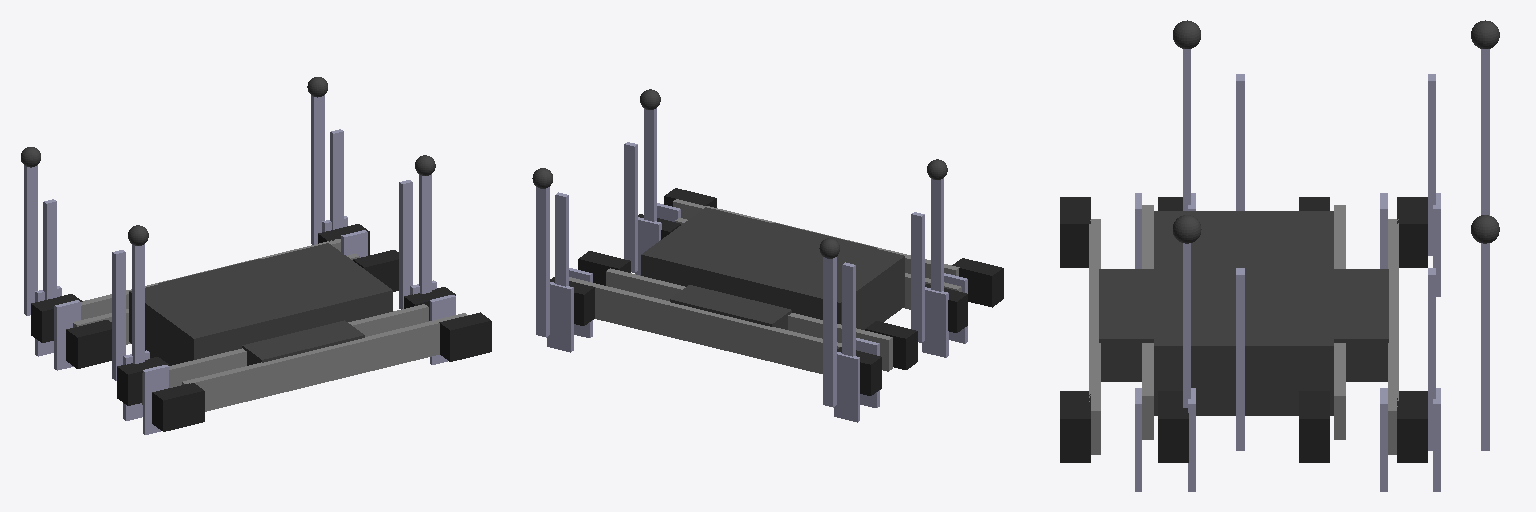
--- Render facts (derived) ---
Views: 3 orthographic renders of the robot side by side, from view 1: azimuth 30°, elevation 25°; view 2: azimuth 150°, elevation 25°; view 3: azimuth 270°, elevation 25°.
Robot: minitaur — 17 links, 16 joints (16 continuous); root link base_chassis_link; default pose: all joints at 0.
Visible links, largest first — view 1: base_chassis_link, lower_leg_back_leftL_link, lower_leg_front_leftL_link, lower_leg_back_rightR_link, lower_leg_front_rightR_link, lower_leg_back_rightL_link, lower_leg_front_rightL_link, lower_leg_back_leftR_link, lower_leg_front_leftR_link, motor_back_leftR_link, motor_back_rightR_link, motor_front_rightR_link (+1 smaller); view 2: base_chassis_link, lower_leg_front_leftL_link, lower_leg_back_leftL_link, lower_leg_front_rightR_link, lower_leg_back_rightR_link, lower_leg_front_rightL_link, lower_leg_back_rightL_link, motor_front_leftL_link, motor_back_rightL_link, motor_back_leftL_link, lower_leg_front_leftR_link, lower_leg_back_leftR_link (+2 smaller); view 3: base_chassis_link, lower_leg_front_leftL_link, lower_leg_back_leftL_link, lower_leg_front_rightR_link, lower_leg_back_rightR_link, lower_leg_front_rightL_link, lower_leg_front_leftR_link, lower_leg_back_leftR_link, lower_leg_back_rightL_link, motor_front_leftR_link, motor_front_leftL_link, motor_front_rightL_link (+4 smaller).
Boxes of the visible links, left/top/right/bottom form: base_chassis_link: left=31, top=224, right=491, bottom=431; lower_leg_back_leftL_link: left=21, top=147, right=40, bottom=315; lower_leg_front_leftL_link: left=307, top=77, right=327, bottom=244; lower_leg_back_rightR_link: left=128, top=225, right=148, bottom=363; lower_leg_front_rightR_link: left=415, top=155, right=435, bottom=293; lower_leg_back_rightL_link: left=112, top=250, right=125, bottom=380; lower_leg_front_rightL_link: left=399, top=180, right=412, bottom=309; lower_leg_back_leftR_link: left=43, top=199, right=56, bottom=299; lower_leg_front_leftR_link: left=330, top=129, right=343, bottom=229; motor_back_leftR_link: left=54, top=300, right=80, bottom=370; motor_back_rightR_link: left=143, top=365, right=168, bottom=434; motor_front_rightR_link: left=430, top=295, right=455, bottom=364; base_chassis_link: left=550, top=188, right=1003, bottom=395; lower_leg_front_leftL_link: left=532, top=168, right=552, bottom=337; lower_leg_back_leftL_link: left=819, top=238, right=839, bottom=407; lower_leg_front_rightR_link: left=640, top=89, right=660, bottom=221; lower_leg_back_rightR_link: left=927, top=159, right=947, bottom=291; lower_leg_front_rightL_link: left=624, top=142, right=637, bottom=272; lower_leg_back_rightL_link: left=911, top=212, right=924, bottom=342; motor_front_leftL_link: left=547, top=282, right=573, bottom=352; motor_back_rightL_link: left=922, top=287, right=948, bottom=357; motor_back_leftL_link: left=834, top=352, right=859, bottom=422; lower_leg_front_leftR_link: left=555, top=192, right=568, bottom=286; lower_leg_back_leftR_link: left=842, top=262, right=855, bottom=356; base_chassis_link: left=1060, top=197, right=1427, bottom=462; lower_leg_front_leftL_link: left=1471, top=215, right=1499, bottom=450; lower_leg_back_leftL_link: left=1471, top=20, right=1499, bottom=215; lower_leg_front_rightR_link: left=1173, top=215, right=1201, bottom=407; lower_leg_back_rightR_link: left=1173, top=20, right=1200, bottom=210; lower_leg_front_rightL_link: left=1236, top=268, right=1244, bottom=450; lower_leg_front_leftR_link: left=1428, top=268, right=1435, bottom=450; lower_leg_back_leftR_link: left=1428, top=74, right=1435, bottom=255; lower_leg_back_rightL_link: left=1236, top=74, right=1244, bottom=210; motor_front_leftR_link: left=1380, top=388, right=1387, bottom=491; motor_front_leftL_link: left=1433, top=388, right=1440, bottom=491; motor_front_rightL_link: left=1188, top=388, right=1195, bottom=491.
Size in the robot's own frame: 0.543 by 0.454 by 0.3045 metres.
0 mesh visuals loaded from 1 distinct referenced files (none loaded); not drawn: 8 (reference not matched to a file when rendering).

robot.urdf — minitaur:
<?xml version="1.0" ?>
<!-- =================================================================================== -->
<!-- |    This document was autogenerated by xacro from ../../SDK/urdf/minitaur_original.urdf.xacro | -->
<!-- |    EDITING THIS FILE BY HAND IS NOT RECOMMENDED                                 | -->
<!-- =================================================================================== -->
<!-- ======================================================================= -->
<!--LICENSE:                                                                 -->
<!--Copyright (c) 2017, Erwin Coumans                                        -->
<!--Google Inc.                                                              -->
<!--All rights reserved.                                                     -->
<!--                                                                         -->
<!--Redistribution and use in source and binary forms, with or without       -->
<!--modification, are permitted provided that the following conditions are   -->
<!--met:                                                                     -->
<!--                                                                         -->
<!--1. Redistributions or derived work must retain this copyright notice,    -->
<!--   this list of conditions and the following disclaimer.                 -->
<!--                                                                         -->
<!--2. Redistributions in binary form must reproduce the above copyright     -->
<!--   notice, this list of conditions and the following disclaimer in the   -->
<!--   documentation and/or other materials provided with the distribution.  -->
<!--                                                                         -->
<!--THIS SOFTWARE IS PROVIDED BY THE COPYRIGHT HOLDERS AND CONTRIBUTORS "AS  -->
<!--IS" AND ANY EXPRESS OR IMPLIED WARRANTIES, INCLUDING, BUT NOT LIMITED TO,-->
<!--THE IMPLIED WARRANTIES OF MERCHANTABILITY AND FITNESS FOR A PARTICULAR   -->
<!--PURPOSE ARE DISCLAIMED. IN NO EVENT SHALL THE COPYRIGHT HOLDER OR        -->
<!--CONTRIBUTORS BE LIABLE FOR ANY DIRECT, INDIRECT, INCIDENTAL, SPECIAL,    -->
<!--EXEMPLARY, OR CONSEQUENTIAL DAMAGES (INCLUDING, BUT NOT LIMITED TO,      -->
<!--PROCUREMENT OF SUBSTITUTE GOODS OR SERVICES; LOSS OF USE, DATA, OR       -->
<!--PROFITS; OR BUSINESS INTERRUPTION) HOWEVER CAUSED AND ON ANY THEORY OF   -->
<!--LIABILITY, WHETHER IN CONTRACT, STRICT LIABILITY, OR TORT (INCLUDING     -->
<!--NEGLIGENCE OR OTHERWISE) ARISING IN ANY WAY OUT OF THE USE OF THIS       -->
<!--SOFTWARE, EVEN IF ADVISED OF THE POSSIBILITY OF SUCH DAMAGE.             -->
<!--                                                                         -->
<!-- Converted to xacro by Tom Jacobs <[email redacted]>          -->
<robot name="minitaur" xmlns:xacro="http://www.ros.org/wiki/xacro">
    <!-- Define parameters -->
    <!-- 7.18kg minitaur total weight - 0.016*4 - 0.10*8 - 0.25*8 - 0.05*8 - 0.05*8 = 3.516 -->
    <!-- * 4 frames -->
    <!-- * 8 motor modules -->
    <!-- * 8 motors -->
    <!-- * 8 upper legs -->
    <!-- * 8 lower legs -->
    <!-- Define materials -->
    <material name="black">
        <color rgba="0.3 0.3 0.3 1"/>
    </material>
    <material name="grey">
        <color rgba="0.5 0.5 0.5 1"/>
    </material>
    <material name="frameGrey">
        <color rgba="0.55 0.55 0.55 1"/>
    </material>
    <material name="legGrey">
        <color rgba="0.65 0.65 0.75 1"/>
    </material>
    <material name="motor">
        <color rgba="0.2 0.2 0.2 1"/>
    </material>
    <!-- Body -->
    <link name="base_chassis_link">
        <visual>
            <geometry>
                <box size="0.33 0.1855 0.08"/>
            </geometry>
            <material name="black"/>
        </visual>
        <visual>
            <origin rpy="0 0 0" xyz="0 0.10 -0.014"/>
            <geometry>
                <box size="0.17 0.1 0.05"/>
            </geometry>
            <material name="black"/>
        </visual>
        <visual>
            <origin rpy="0 0 0" xyz="0 -0.10 -0.014"/>
            <geometry>
                <box size="0.17 0.1 0.05"/>
            </geometry>
            <material name="black"/>
        </visual>
        <collision>
            <geometry>
                <box size="0.33 0.1855 0.08"/>
            </geometry>
        </collision>
        <collision>
            <origin rpy="0 0 0" xyz="0 0.10 -0.014"/>
            <geometry>
                <box size="0.17 0.1 0.05"/>
            </geometry>
        </collision>
        <collision>
            <origin rpy="0 0 0" xyz="0 -0.10 -0.014"/>
            <geometry>
                <box size="0.17 0.1 0.05"/>
            </geometry>
        </collision>
        <inertial>
            <origin xyz="-0.000001 -0.001048 -0.005376" quat="0.000000 0.000000 0.000000 1.000000"/>
            <mass value="4.9559989"/>
            <!-- https://en.wikipedia.org/wiki/List_of_moments_of_inertia Solid Cuboid -->
            <inertia ixx="0.061256915" ixy="-1.6763806e-08" ixz="-5.1921234e-08" iyy="0.17553288" iyz="-6.8246009e-05" izz="0.22581783"/>
        </inertial>
        <collision>
            <origin xyz="-0.237500 0.174000 -0.018500" quat="0.000000 0.000000 0.000000 1.000000"/>
            <geometry>
                <box size=".068 .032 .050"/>
            </geometry>
        </collision>
        <visual>
            <origin xyz="-0.237500 0.174000 -0.018500" quat="0.000000 0.000000 0.000000 1.000000"/>
            <geometry>
                <box size="0.068 .032 .050"/>
            </geometry>
            <material name="motor"/>
        </visual>
        <collision>
            <origin xyz="-0.237500 -0.174000 -0.018500" quat="0.000000 0.000000 0.000000 1.000000"/>
            <geometry>
                <box size=".068 .032 .050"/>
            </geometry>
        </collision>
        <visual>
            <origin xyz="-0.237500 -0.174000 -0.018500" quat="0.000000 0.000000 0.000000 1.000000"/>
            <geometry>
                <box size="0.068 .032 .050"/>
            </geometry>
            <material name="motor"/>
        </visual>
        <collision>
            <origin xyz="0.237500 0.174000 -0.018500" quat="0.000000 0.000000 0.000000 1.000000"/>
            <geometry>
                <box size=".068 .032 .050"/>
            </geometry>
        </collision>
        <visual>
            <origin xyz="0.237500 0.174000 -0.018500" quat="0.000000 0.000000 0.000000 1.000000"/>
            <geometry>
                <box size="0.068 .032 .050"/>
            </geometry>
            <material name="motor"/>
        </visual>
        <collision>
            <origin xyz="0.237500 -0.174000 -0.018500" quat="0.000000 0.000000 0.000000 1.000000"/>
            <geometry>
                <box size=".068 .032 .050"/>
            </geometry>
        </collision>
        <visual>
            <origin xyz="0.237500 -0.174000 -0.018500" quat="0.000000 0.000000 0.000000 1.000000"/>
            <geometry>
                <box size="0.068 .032 .050"/>
            </geometry>
            <material name="motor"/>
        </visual>
        <collision>
            <origin xyz="0.237500 0.072500 -0.018500" quat="0.000000 0.000000 0.000000 1.000000"/>
            <geometry>
                <box size=".068 .032 .050"/>
            </geometry>
        </collision>
        <collision>
            <origin xyz="-0.237500 0.072500 -0.018500" quat="0.000000 0.000000 0.000000 1.000000"/>
            <geometry>
                <box size=".068 .032 .050"/>
            </geometry>
        </collision>
        <visual>
            <origin xyz="0.237500 0.072500 -0.018500" quat="0.000000 0.000000 0.000000 1.000000"/>
            <geometry>
                <box size=".068 .032 .050"/>
            </geometry>
            <material name="motor"/>
        </visual>
        <visual>
            <origin xyz="-0.237500 0.072500 -0.018500" quat="0.000000 0.000000 0.000000 1.000000"/>
            <geometry>
                <box size=".068 .032 .050"/>
            </geometry>
            <material name="motor"/>
        </visual>
        <collision>
            <origin xyz="0.237500 -0.072500 -0.018500" quat="0.000000 0.000000 0.000000 1.000000"/>
            <geometry>
                <box size=".068 .032 .050"/>
            </geometry>
        </collision>
        <collision>
            <origin xyz="-0.237500 -0.072500 -0.018500" quat="0.000000 0.000000 0.000000 1.000000"/>
            <geometry>
                <box size=".068 .032 .050"/>
            </geometry>
        </collision>
        <visual>
            <origin xyz="0.237500 -0.072500 -0.018500" quat="0.000000 0.000000 0.000000 1.000000"/>
            <geometry>
                <box size=".068 .032 .050"/>
            </geometry>
            <material name="motor"/>
        </visual>
        <visual>
            <origin xyz="-0.237500 -0.072500 -0.018500" quat="0.000000 0.000000 0.000000 1.000000"/>
            <geometry>
                <box size=".068 .032 .050"/>
            </geometry>
            <material name="motor"/>
        </visual>
        <collision>
            <origin xyz="-0.017500 0.099000 -0.018500" quat="0.000000 0.000000 0.000000 1.000000"/>
            <geometry>
                <box size="0.468 .012 .050"/>
            </geometry>
        </collision>
        <visual>
            <origin xyz="-0.017500 0.099000 -0.018500" quat="0.000000 0.000000 0.000000 1.000000"/>
            <geometry>
                <box size="0.468 .012 .050"/>
            </geometry>
            <material name="frameGrey"/>
        </visual>
        <collision>
            <origin xyz="-0.017500 -0.099000 -0.018500" quat="0.000000 0.000000 0.000000 1.000000"/>
            <geometry>
                <box size="0.468 .012 .050"/>
            </geometry>
        </collision>
        <visual>
            <origin xyz="-0.017500 -0.099000 -0.018500" quat="0.000000 0.000000 0.000000 1.000000"/>
            <geometry>
                <box size="0.468 .012 .050"/>
            </geometry>
            <material name="frameGrey"/>
        </visual>
        <collision>
            <origin xyz="0.017500 0.154000 -0.018500" quat="0.000000 0.000000 0.000000 1.000000"/>
            <geometry>
                <box size="0.468 .012 .050"/>
            </geometry>
        </collision>
        <visual>
            <origin xyz="0.017500 0.154000 -0.018500" quat="0.000000 0.000000 0.000000 1.000000"/>
            <geometry>
                <box size="0.468 .012 .050"/>
            </geometry>
            <material name="frameGrey"/>
        </visual>
        <collision>
            <origin xyz="0.017500 -0.154000 -0.018500" quat="0.000000 0.000000 0.000000 1.000000"/>
            <geometry>
                <box size="0.468 .012 .050"/>
            </geometry>
        </collision>
        <visual>
            <origin xyz="0.017500 -0.154000 -0.018500" quat="0.000000 0.000000 0.000000 1.000000"/>
            <geometry>
                <box size="0.468 .012 .050"/>
            </geometry>
            <material name="frameGrey"/>
        </visual>
    </link>
    <!-- Frame -->
    <!-- Inside motor module boxes -->
    <!-- Outside motor module boxes -->
    <!-- Define our motor macro -->
    <!-- Motors -->
    <link name="motor_front_rightR_link">
        <visual>
            <geometry>
                <mesh filename="tmotor3.obj" scale="1.0 1.0 1.0"/>
            </geometry>
            <material name="motor"/>
        </visual>
        <collision>
            <geometry>
                <cylinder length="0.021" radius="0.0425"/>
            </geometry>
        </collision>
        <inertial>
            <origin xyz="0.000000 0.007500 -0.002417" quat="0.000000 0.000000 0.000000 1.000000"/>
            <mass value="0.30000001"/>
            <inertia ixx="0.00024587542" ixy="0" ixz="0" iyy="0.00012633341" iyz="2.7185712e-05" izz="0.00034422299"/>
        </inertial>
        <collision>
            <origin xyz="0.000000 0.045000 -0.014500" quat="-0.707090 0.000000 0.000000 0.707123"/>
            <geometry>
                <box size="0.039 0.008 0.1"/>
            </geometry>
        </collision>
        <visual>
            <origin xyz="0.000000 0.045000 -0.014500" quat="-0.707090 0.000000 0.000000 0.707123"/>
            <geometry>
                <box size="0.039 0.008 0.1"/>
            </geometry>
            <material name="legGrey"/>
        </visual>
    </link>
    <joint name="5" type="continuous">
        <axis xyz="0 0 1"/>
        <parent link="base_chassis_link"/>
        <child link="motor_front_rightR_link"/>
        <origin xyz="0.237500 -0.154000 -0.018500" quat="0.707090 0.000000 0.000000 0.707123"/>
        <limit effort="100" velocity="100"/>
        <joint_properties damping="0.0" friction="0.0"/>
    </joint>
    <link name="motor_front_rightL_link">
        <visual>
            <geometry>
                <mesh filename="tmotor3.obj" scale="1.0 1.0 1.0"/>
            </geometry>
            <material name="motor"/>
        </visual>
        <collision>
            <geometry>
                <cylinder length="0.021" radius="0.0425"/>
            </geometry>
        </collision>
        <inertial>
            <origin xyz="0.000000 0.007500 -0.002417" quat="0.000000 0.000000 0.000000 1.000000"/>
            <mass value="0.30000001"/>
            <inertia ixx="0.00024587542" ixy="0" ixz="0" iyy="0.00012633341" iyz="2.7185712e-05" izz="0.00034422299"/>
        </inertial>
        <collision>
            <origin xyz="0.000000 0.045000 -0.014500" quat="-0.707090 0.000000 0.000000 0.707123"/>
            <geometry>
                <box size="0.039 0.008 0.1"/>
            </geometry>
        </collision>
        <visual>
            <origin xyz="0.000000 0.045000 -0.014500" quat="-0.707090 0.000000 0.000000 0.707123"/>
            <geometry>
                <box size="0.039 0.008 0.1"/>
            </geometry>
            <material name="legGrey"/>
        </visual>
    </link>
    <joint name="4" type="continuous">
        <axis xyz="0 0 1"/>
        <parent link="base_chassis_link"/>
        <child link="motor_front_rightL_link"/>
        <origin xyz="0.237500 -0.099000 -0.018500" quat="0.000000 0.707090 0.707123 0.000000"/>
        <limit effort="100" velocity="100"/>
        <joint_properties damping="0.0" friction="0.0"/>
    </joint>
    <link name="motor_front_leftL_link">
        <visual>
            <geometry>
                <mesh filename="tmotor3.obj" scale="1.0 1.0 1.0"/>
            </geometry>
            <material name="motor"/>
        </visual>
        <collision>
            <geometry>
                <cylinder length="0.021" radius="0.0425"/>
            </geometry>
        </collision>
        <inertial>
            <origin xyz="0.000000 0.007500 -0.002417" quat="0.000000 0.000000 0.000000 1.000000"/>
            <mass value="0.30000001"/>
            <inertia ixx="0.00024587542" ixy="0" ixz="0" iyy="0.00012633341" iyz="2.7185712e-05" izz="0.00034422299"/>
        </inertial>
        <collision>
            <origin xyz="0.000000 0.045000 -0.014500" quat="-0.707090 0.000000 0.000000 0.707123"/>
            <geometry>
                <box size="0.039 0.008 0.1"/>
            </geometry>
        </collision>
        <visual>
            <origin xyz="0.000000 0.045000 -0.014500" quat="-0.707090 0.000000 0.000000 0.707123"/>
            <geometry>
                <box size="0.039 0.008 0.1"/>
            </geometry>
            <material name="legGrey"/>
        </visual>
    </link>
    <joint name="0" type="continuous">
        <axis xyz="0 0 1"/>
        <parent link="base_chassis_link"/>
        <child link="motor_front_leftL_link"/>
        <origin xyz="0.237500 0.154000 -0.018500" quat="0.000000 0.707090 0.707123 0.000000"/>
        <limit effort="100" velocity="100"/>
        <joint_properties damping="0.0" friction="0.0"/>
    </joint>
    <link name="motor_front_leftR_link">
        <visual>
            <geometry>
                <mesh filename="tmotor3.obj" scale="1.0 1.0 1.0"/>
            </geometry>
            <material name="motor"/>
        </visual>
        <collision>
            <geometry>
                <cylinder length="0.021" radius="0.0425"/>
            </geometry>
        </collision>
        <inertial>
            <origin xyz="0.000000 0.007500 -0.002417" quat="0.000000 0.000000 0.000000 1.000000"/>
            <mass value="0.30000001"/>
            <inertia ixx="0.00024587542" ixy="0" ixz="0" iyy="0.00012633341" iyz="2.7185712e-05" izz="0.00034422299"/>
        </inertial>
        <collision>
            <origin xyz="0.000000 0.045000 -0.014500" quat="-0.707090 0.000000 0.000000 0.707123"/>
            <geometry>
                <box size="0.039 0.008 0.1"/>
            </geometry>
        </collision>
        <visual>
            <origin xyz="0.000000 0.045000 -0.014500" quat="-0.707090 0.000000 0.000000 0.707123"/>
            <geometry>
                <box size="0.039 0.008 0.1"/>
            </geometry>
            <material name="legGrey"/>
        </visual>
    </link>
    <joint name="1" type="continuous">
        <axis xyz="0 0 1"/>
        <parent link="base_chassis_link"/>
        <child link="motor_front_leftR_link"/>
        <origin xyz="0.237500 0.099000 -0.018500" quat="0.707090 0.000000 0.000000 0.707123"/>
        <limit effort="100" velocity="100"/>
        <joint_properties damping="0.0" friction="0.0"/>
    </joint>
    <link name="motor_back_rightR_link">
        <visual>
            <geometry>
                <mesh filename="tmotor3.obj" scale="1.0 1.0 1.0"/>
            </geometry>
            <material name="motor"/>
        </visual>
        <collision>
            <geometry>
                <cylinder length="0.021" radius="0.0425"/>
            </geometry>
        </collision>
        <inertial>
            <origin xyz="0.000000 0.007500 -0.002417" quat="0.000000 0.000000 0.000000 1.000000"/>
            <mass value="0.30000001"/>
            <inertia ixx="0.00024587542" ixy="0" ixz="0" iyy="0.00012633341" iyz="2.7185712e-05" izz="0.00034422299"/>
        </inertial>
        <collision>
            <origin xyz="0.000000 0.045000 -0.014500" quat="-0.707090 0.000000 0.000000 0.707123"/>
            <geometry>
                <box size="0.039 0.008 0.1"/>
            </geometry>
        </collision>
        <visual>
            <origin xyz="0.000000 0.045000 -0.014500" quat="-0.707090 0.000000 0.000000 0.707123"/>
            <geometry>
                <box size="0.039 0.008 0.1"/>
            </geometry>
            <material name="legGrey"/>
        </visual>
    </link>
    <joint name="7" type="continuous">
        <axis xyz="0 0 1"/>
        <parent link="base_chassis_link"/>
        <child link="motor_back_rightR_link"/>
        <origin xyz="-0.237500 -0.154000 -0.018500" quat="0.707090 0.000000 0.000000 0.707123"/>
        <limit effort="100" velocity="100"/>
        <joint_properties damping="0.0" friction="0.0"/>
    </joint>
    <link name="motor_back_rightL_link">
        <visual>
            <geometry>
                <mesh filename="tmotor3.obj" scale="1.0 1.0 1.0"/>
            </geometry>
            <material name="motor"/>
        </visual>
        <collision>
            <geometry>
                <cylinder length="0.021" radius="0.0425"/>
            </geometry>
        </collision>
        <inertial>
            <origin xyz="0.000000 0.007500 -0.002417" quat="0.000000 0.000000 0.000000 1.000000"/>
            <mass value="0.30000001"/>
            <inertia ixx="0.00024587542" ixy="0" ixz="0" iyy="0.00012633341" iyz="2.7185712e-05" izz="0.00034422299"/>
        </inertial>
        <collision>
            <origin xyz="0.000000 0.045000 -0.014500" quat="-0.707090 0.000000 0.000000 0.707123"/>
            <geometry>
                <box size="0.039 0.008 0.1"/>
            </geometry>
        </collision>
        <visual>
            <origin xyz="0.000000 0.045000 -0.014500" quat="-0.707090 0.000000 0.000000 0.707123"/>
            <geometry>
                <box size="0.039 0.008 0.1"/>
            </geometry>
            <material name="legGrey"/>
        </visual>
    </link>
    <joint name="6" type="continuous">
        <axis xyz="0 0 1"/>
        <parent link="base_chassis_link"/>
        <child link="motor_back_rightL_link"/>
        <origin xyz="-0.237500 -0.099000 -0.018500" quat="0.000000 0.707090 0.707123 0.000000"/>
        <limit effort="100" velocity="100"/>
        <joint_properties damping="0.0" friction="0.0"/>
    </joint>
    <link name="motor_back_leftL_link">
        <visual>
            <geometry>
                <mesh filename="tmotor3.obj" scale="1.0 1.0 1.0"/>
            </geometry>
            <material name="motor"/>
        </visual>
        <collision>
            <geometry>
                <cylinder length="0.021" radius="0.0425"/>
            </geometry>
        </collision>
        <inertial>
            <origin xyz="0.000000 0.007500 -0.002417" quat="0.000000 0.000000 0.000000 1.000000"/>
            <mass value="0.30000001"/>
            <inertia ixx="0.00024587542" ixy="0" ixz="0" iyy="0.00012633341" iyz="2.7185712e-05" izz="0.00034422299"/>
        </inertial>
        <collision>
            <origin xyz="0.000000 0.045000 -0.014500" quat="-0.707090 0.000000 0.000000 0.707123"/>
            <geometry>
                <box size="0.039 0.008 0.1"/>
            </geometry>
        </collision>
        <visual>
            <origin xyz="0.000000 0.045000 -0.014500" quat="-0.707090 0.000000 0.000000 0.707123"/>
            <geometry>
                <box size="0.039 0.008 0.1"/>
            </geometry>
            <material name="legGrey"/>
        </visual>
    </link>
    <joint name="2" type="continuous">
        <axis xyz="0 0 1"/>
        <parent link="base_chassis_link"/>
        <child link="motor_back_leftL_link"/>
        <origin xyz="-0.237500 0.154000 -0.018500" quat="0.000000 0.707090 0.707123 0.000000"/>
        <limit effort="100" velocity="100"/>
        <joint_properties damping="0.0" friction="0.0"/>
    </joint>
    <link name="motor_back_leftR_link">
        <visual>
            <geometry>
                <mesh filename="tmotor3.obj" scale="1.0 1.0 1.0"/>
            </geometry>
            <material name="motor"/>
        </visual>
        <collision>
            <geometry>
                <cylinder length="0.021" radius="0.0425"/>
            </geometry>
        </collision>
        <inertial>
            <origin xyz="0.000000 0.007500 -0.002417" quat="0.000000 0.000000 0.000000 1.000000"/>
            <mass value="0.30000001"/>
            <inertia ixx="0.00024587542" ixy="0" ixz="0" iyy="0.00012633341" iyz="2.7185712e-05" izz="0.00034422299"/>
        </inertial>
        <collision>
            <origin xyz="0.000000 0.045000 -0.014500" quat="-0.707090 0.000000 0.000000 0.707123"/>
            <geometry>
                <box size="0.039 0.008 0.1"/>
            </geometry>
        </collision>
        <visual>
            <origin xyz="0.000000 0.045000 -0.014500" quat="-0.707090 0.000000 0.000000 0.707123"/>
            <geometry>
                <box size="0.039 0.008 0.1"/>
            </geometry>
            <material name="legGrey"/>
        </visual>
    </link>
    <joint name="3" type="continuous">
        <axis xyz="0 0 1"/>
        <parent link="base_chassis_link"/>
        <child link="motor_back_leftR_link"/>
        <origin xyz="-0.237500 0.099000 -0.018500" quat="0.707090 0.000000 0.000000 0.707123"/>
        <limit effort="100" velocity="100"/>
        <joint_properties damping="0.0" friction="0.0"/>
    </joint>
    <!-- Define our upper leg macro -->
    <!-- Define our lower leg macro -->
    <!-- Legs -->
    <!-- Lower legs and flexy knee joints -->
    <link name="lower_leg_front_rightR_link">
        <contact>
            <friction_anchor/>
            <stiffness value="3000.0"/>
            <damping value="100.0"/>
            <spinning_friction value=".05"/>
            <lateral_friction value="1"/>
        </contact>
        <visual>
            <origin rpy="0 0 0" xyz="0 0 0.124"/>
            <geometry>
                <box size="0.017 0.009 0.248"/>
            </geometry>
            <material name="legGrey"/>
        </visual>
        <collision>
            <origin rpy="0 0 0" xyz="0 0 0.124"/>
            <geometry>
                <box size="0.017 0.009 0.248"/>
            </geometry>
        </collision>
        <inertial>
            <origin xyz="0.000000 0.000000 0.144667" quat="0.000000 0.000000 0.000000 1.000000"/>
            <mass value="0.060000002"/>
            <inertia ixx="0.00047772331" ixy="0" ixz="0" iyy="0.00047950333" iyz="0" izz="2.7177999e-05"/>
        </inertial>
        <collision>
            <origin xyz="0.000000 0.000000 0.248000" quat="0.000000 0.000000 0.000000 1.000000"/>
            <geometry>
                <sphere radius="0.015"/>
            </geometry>
        </collision>
        <visual>
            <origin xyz="0.000000 0.000000 0.248000" quat="0.000000 0.000000 0.000000 1.000000"/>
            <geometry>
                <sphere radius="0.015"/>
            </geometry>
            <material name="black"/>
        </visual>
    </link>
    <joint name="8" type="continuous">
        <axis xyz="0 1 0"/>
        <parent link="motor_front_rightR_link"/>
        <child link="lower_leg_front_rightR_link"/>
        <origin xyz="0.000000 0.095000 -0.022998" quat="-0.707090 0.000000 0.000000 0.707123"/>
        <limit effort="100" velocity="100"/>
        <joint_properties damping="0.0" friction="0.0"/>
    </joint>
    <!-- Toe -->
    <link name="lower_leg_front_rightL_link">
        <contact>
            <friction_anchor/>
            <stiffness value="3000.0"/>
            <damping value="100.0"/>
            <spinning_friction value=".05"/>
            <lateral_friction value="1"/>
        </contact>
        <visual>
            <origin rpy="0 0 0" xyz="0 0 0.1"/>
            <geometry>
                <box size="0.017 0.009 0.2"/>
            </geometry>
            <material name="legGrey"/>
        </visual>
        <collision>
            <origin rpy="0 0 0" xyz="0 0 0.1"/>
            <geometry>
                <box size="0.017 0.009 0.2"/>
            </geometry>
        </collision>
        <inertial>
            <origin rpy="0 0 0" xyz="0 0 0.1"/>
            <mass value="0.05"/>
            <inertia ixx=".00032459" ixy=".0" ixz=".0" iyy=".00032637" iyz=".0" izz=".000002178"/>
        </inertial>
    </link>
    <joint name="9" type="continuous">
        <axis xyz="0 1 0"/>
        <parent link="motor_front_rightL_link"/>
        <child link="lower_leg_front_rightL_link"/>
        <origin xyz="0.000000 0.095000 -0.022998" quat="-0.707090 0.000000 0.000000 0.707123"/>
        <limit effort="100" velocity="100"/>
        <joint_properties damping="0.0" friction="0.0"/>
    </joint>
    <link name="lower_leg_front_leftR_link">
        <contact>
            <friction_anchor/>
            <stiffness value="3000.0"/>
            <damping value="100.0"/>
            <spinning_friction value=".05"/>
            <lateral_friction value="1"/>
        </contact>
        <visual>
            <origin rpy="0 0 0" xyz="0 0 0.1"/>
            <geometry>
                <box size="0.017 0.009 0.2"/>
            </geometry>
            <material name="legGrey"/>
        </visual>
        <collision>
            <origin rpy="0 0 0" xyz="0 0 0.1"/>
            <geometry>
                <box size="0.017 0.009 0.2"/>
            </geometry>
        </collision>
        <inertial>
            <origin rpy="0 0 0" xyz="0 0 0.1"/>
            <mass value="0.05"/>
            <inertia ixx=".00032459" ixy=".0" ixz=".0" iyy=".00032637" iyz=".0" izz=".000002178"/>
        </inertial>
    </link>
    <joint name="11" type="continuous">
        <axis xyz="0 1 0"/>
        <parent link="motor_front_leftR_link"/>
        <child link="lower_leg_front_leftR_link"/>
        <origin xyz="0.000000 0.095000 -0.022998" quat="-0.707090 0.000000 0.000000 0.707123"/>
        <limit effort="100" velocity="100"/>
        <joint_properties damping="0.0" friction="0.0"/>
    </joint>
    <link name="lower_leg_front_leftL_link">
        <contact>
            <friction_anchor/>
            <stiffness value="3000.0"/>
            <damping value="100.0"/>
            <spinning_friction value=".05"/>
            <lateral_friction value="1"/>
        </contact>
        <visual>
            <origin rpy="0 0 0" xyz="0 0 0.124"/>
            <geometry>
                <box size="0.017 0.009 0.248"/>
            </geometry>
            <material name="legGrey"/>
        </visual>
        <collision>
            <origin rpy="0 0 0" xyz="0 0 0.124"/>
            <geometry>
                <box size="0.017 0.009 0.248"/>
            </geometry>
        </collision>
        <inertial>
            <origin xyz="0.000000 0.000000 0.144667" quat="0.000000 0.000000 0.000000 1.000000"/>
            <mass value="0.060000002"/>
            <inertia ixx="0.00047772331" ixy="0" ixz="0" iyy="0.00047950333" iyz="0" izz="2.7177999e-05"/>
        </inertial>
        <collision>
            <origin xyz="0.000000 0.000000 0.248000" quat="0.000000 0.000000 0.000000 1.000000"/>
            <geometry>
                <sphere radius="0.015"/>
            </geometry>
        </collision>
        <visual>
            <origin xyz="0.000000 0.000000 0.248000" quat="0.000000 0.000000 0.000000 1.000000"/>
            <geometry>
                <sphere radius="0.015"/>
            </geometry>
            <material name="black"/>
        </visual>
    </link>
    <joint name="10" type="continuous">
        <axis xyz="0 1 0"/>
        <parent link="motor_front_leftL_link"/>
        <child link="lower_leg_front_leftL_link"/>
        <origin xyz="0.000000 0.095000 -0.022998" quat="-0.707090 0.000000 0.000000 0.707123"/>
        <limit effort="100" velocity="100"/>
        <joint_properties damping="0.0" friction="0.0"/>
    </joint>
    <!-- Toe -->
    <link name="lower_leg_back_rightR_link">
        <contact>
            <friction_anchor/>
            <stiffness value="3000.0"/>
            <damping value="100.0"/>
            <spinning_friction value=".05"/>
            <lateral_friction value="1"/>
        </contact>
        <visual>
            <origin rpy="0 0 0" xyz="0 0 0.124"/>
            <geometry>
                <box size="0.017 0.009 0.248"/>
            </geometry>
            <material name="legGrey"/>
        </visual>
        <collision>
            <origin rpy="0 0 0" xyz="0 0 0.124"/>
            <geometry>
                <box size="0.017 0.009 0.248"/>
            </geometry>
        </collision>
        <inertial>
            <origin xyz="0.000000 0.000000 0.144667" quat="0.000000 0.000000 0.000000 1.000000"/>
            <mass value="0.060000002"/>
            <inertia ixx="0.00047772331" ixy="0" ixz="0" iyy="0.00047950333" iyz="0" izz="2.7177999e-05"/>
        </inertial>
        <collision>
            <origin xyz="0.000000 0.000000 0.248000" quat="0.000000 0.000000 0.000000 1.000000"/>
            <geometry>
                <sphere radius="0.015"/>
            </geometry>
        </collision>
        <visual>
            <origin xyz="0.000000 0.000000 0.248000" quat="0.000000 0.000000 0.000000 1.000000"/>
            <geometry>
                <sphere radius="0.015"/>
            </geometry>
            <material name="black"/>
        </visual>
    </link>
    <joint name="12" type="continuous">
        <axis xyz="0 1 0"/>
        <parent link="motor_back_rightR_link"/>
        <child link="lower_leg_back_rightR_link"/>
        <origin xyz="0.000000 0.095000 -0.022998" quat="-0.707090 0.000000 0.000000 0.707123"/>
        <limit effort="100" velocity="100"/>
        <joint_properties damping="0.0" friction="0.0"/>
    </joint>
    <!-- Toe -->
    <link name="lower_leg_back_rightL_link">
        <contact>
            <friction_anchor/>
            <stiffness value="3000.0"/>
            <damping value="100.0"/>
            <spinning_friction value=".05"/>
            <lateral_friction value="1"/>
        </contact>
        <visual>
            <origin rpy="0 0 0" xyz="0 0 0.1"/>
            <geometry>
                <box size="0.017 0.009 0.2"/>
            </geometry>
            <material name="legGrey"/>
        </visual>
        <collision>
            <origin rpy="0 0 0" xyz="0 0 0.1"/>
            <geometry>
                <box size="0.017 0.009 0.2"/>
            </geometry>
        </collision>
        <inertial>
            <origin rpy="0 0 0" xyz="0 0 0.1"/>
            <mass value="0.05"/>
            <inertia ixx=".00032459" ixy=".0" ixz=".0" iyy=".00032637" iyz=".0" izz=".000002178"/>
        </inertial>
    </link>
    <joint name="13" type="continuous">
        <axis xyz="0 1 0"/>
        <parent link="motor_back_rightL_link"/>
        <child link="lower_leg_back_rightL_link"/>
        <origin xyz="0.000000 0.095000 -0.022998" quat="-0.707090 0.000000 0.000000 0.707123"/>
        <limit effort="100" velocity="100"/>
        <joint_properties damping="0.0" friction="0.0"/>
    </joint>
    <link name="lower_leg_back_leftR_link">
        <contact>
            <friction_anchor/>
            <stiffness value="3000.0"/>
            <damping value="100.0"/>
            <spinning_friction value=".05"/>
            <lateral_friction value="1"/>
        </contact>
        <visual>
            <origin rpy="0 0 0" xyz="0 0 0.1"/>
            <geometry>
                <box size="0.017 0.009 0.2"/>
            </geometry>
            <material name="legGrey"/>
        </visual>
        <collision>
            <origin rpy="0 0 0" xyz="0 0 0.1"/>
            <geometry>
                <box size="0.017 0.009 0.2"/>
            </geometry>
        </collision>
        <inertial>
            <origin rpy="0 0 0" xyz="0 0 0.1"/>
            <mass value="0.05"/>
            <inertia ixx=".00032459" ixy=".0" ixz=".0" iyy=".00032637" iyz=".0" izz=".000002178"/>
        </inertial>
    </link>
    <joint name="14" type="continuous">
        <axis xyz="0 1 0"/>
        <parent link="motor_back_leftR_link"/>
        <child link="lower_leg_back_leftR_link"/>
        <origin xyz="0.000000 0.095000 -0.022998" quat="-0.707090 0.000000 0.000000 0.707123"/>
        <limit effort="100" velocity="100"/>
        <joint_properties damping="0.0" friction="0.0"/>
    </joint>
    <link name="lower_leg_back_leftL_link">
        <contact>
            <friction_anchor/>
            <stiffness value="3000.0"/>
            <damping value="100.0"/>
            <spinning_friction value=".05"/>
            <lateral_friction value="1"/>
        </contact>
        <visual>
            <origin rpy="0 0 0" xyz="0 0 0.124"/>
            <geometry>
                <box size="0.017 0.009 0.248"/>
            </geometry>
            <material name="legGrey"/>
        </visual>
        <collision>
            <origin rpy="0 0 0" xyz="0 0 0.124"/>
            <geometry>
                <box size="0.017 0.009 0.248"/>
            </geometry>
        </collision>
        <inertial>
            <origin xyz="0.000000 0.000000 0.144667" quat="0.000000 0.000000 0.000000 1.000000"/>
            <mass value="0.060000002"/>
            <inertia ixx="0.00047772331" ixy="0" ixz="0" iyy="0.00047950333" iyz="0" izz="2.7177999e-05"/>
        </inertial>
        <collision>
            <origin xyz="0.000000 0.000000 0.248000" quat="0.000000 0.000000 0.000000 1.000000"/>
            <geometry>
                <sphere radius="0.015"/>
            </geometry>
        </collision>
        <visual>
            <origin xyz="0.000000 0.000000 0.248000" quat="0.000000 0.000000 0.000000 1.000000"/>
            <geometry>
                <sphere radius="0.015"/>
            </geometry>
            <material name="black"/>
        </visual>
    </link>
    <joint name="15" type="continuous">
        <axis xyz="0 1 0"/>
        <parent link="motor_back_leftL_link"/>
        <child link="lower_leg_back_leftL_link"/>
        <origin xyz="0.000000 0.095000 -0.022998" quat="-0.707090 0.000000 0.000000 0.707123"/>
        <limit effort="100" velocity="100"/>
        <joint_properties damping="0.0" friction="0.0"/>
    </joint>
    <!-- Toe -->
</robot>
